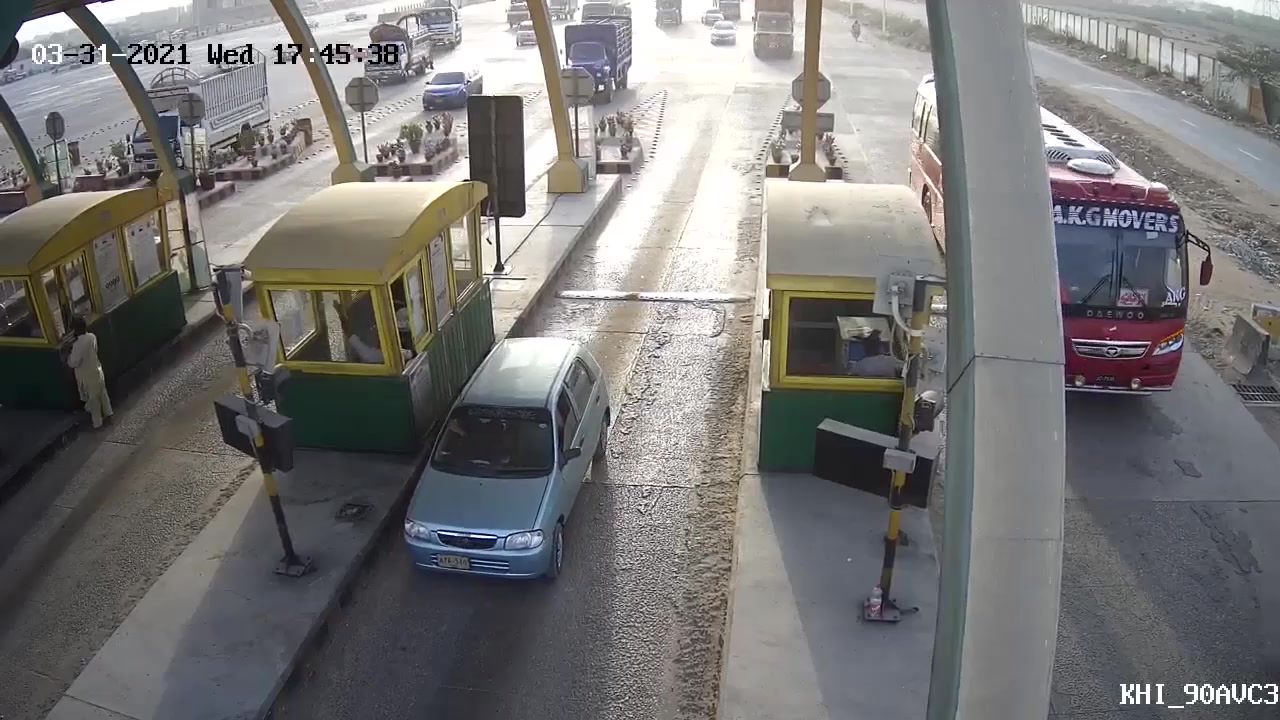F1: (392, 335, 620, 598)
